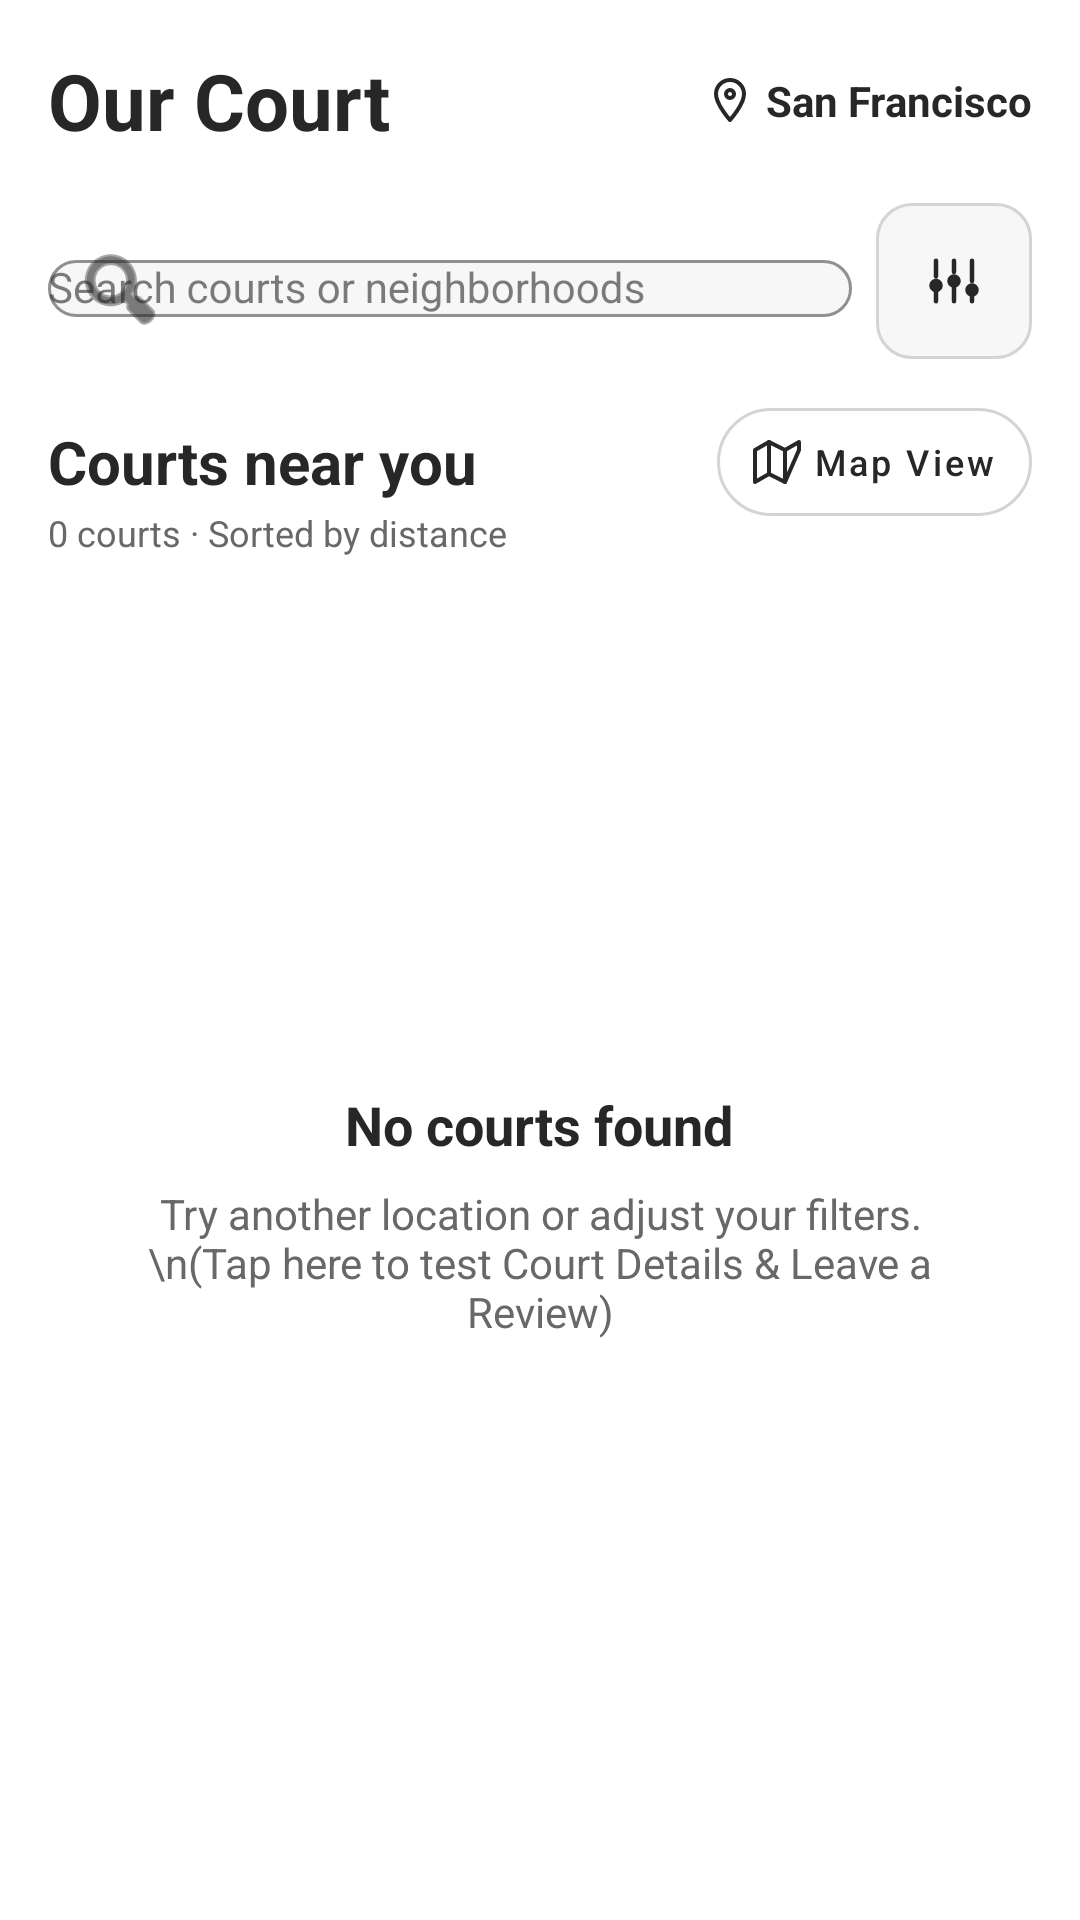

Where icons sit on this 1080×1920 app screen, as (x1, y1, x2, y2):
filter: (876, 203, 1032, 359)
Location pin: (714, 78, 746, 122)
